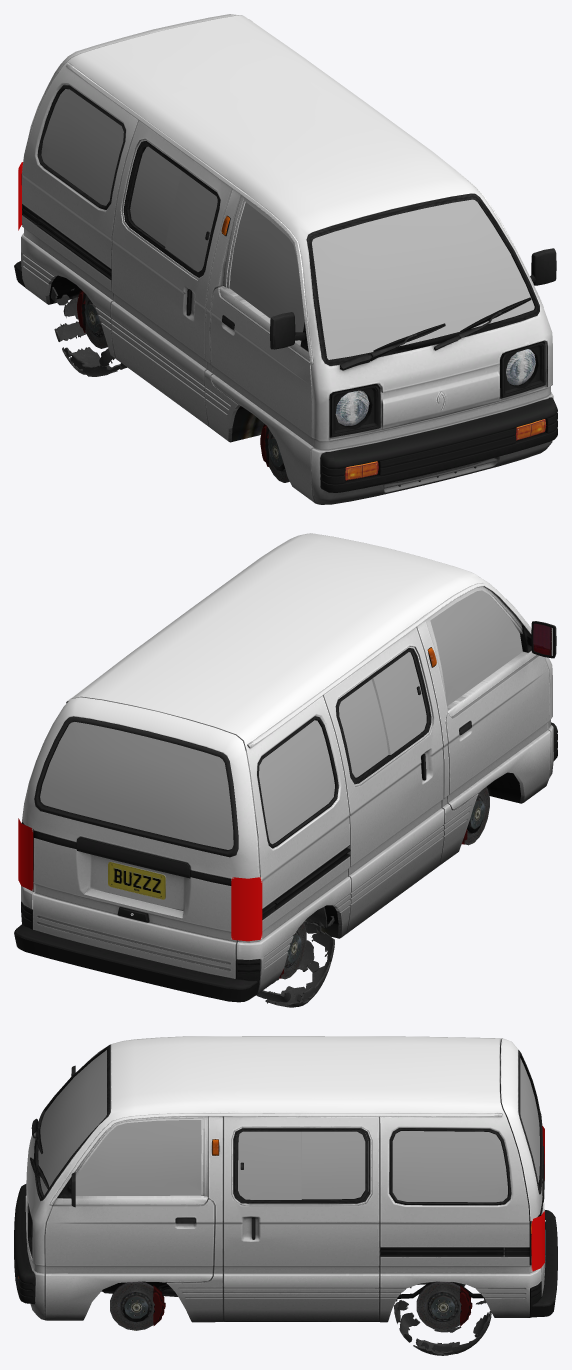
The model's file is 21_MiniVan.fbx.
The picture shows the model from 3 angles, top to bottom: view 1: azimuth 30°, elevation 25°; view 2: azimuth 150°, elevation 25°; view 3: azimuth 270°, elevation 25°; orthographic projection. The views are drawn at different scales.
Visible parts, largest first — view 1: Body_Duco, Body_Glass, Body_Matte, Body_Glossy, Rotor; view 2: Body_Duco, Body_Glass, Body_Matte, BrakeLights, Rotor (×2), NumberPlate, Body_Chrome; view 3: Body_Duco, Body_Glass, Body_Matte, Rotor (×2), BrakeLights.
Part boxes in pixels (box(x1,y1,x2,y2)): Body_Duco: box(21, 14, 553, 504); Body_Glass: box(41, 89, 534, 359); Body_Matte: box(14, 85, 557, 492); Body_Glossy: box(21, 174, 546, 480); Rotor: box(84, 294, 107, 348); Body_Duco: box(21, 533, 553, 993); Body_Glass: box(40, 590, 522, 849); Body_Matte: box(14, 621, 557, 1002); BrakeLights: box(18, 818, 262, 941); Rotor (×2): box(281, 787, 489, 979); NumberPlate: box(108, 861, 166, 899); Body_Chrome: box(130, 623, 552, 915); Body_Duco: box(26, 1036, 545, 1322); Body_Glass: box(38, 1050, 539, 1202); Body_Matte: box(14, 1045, 557, 1322); Rotor (×2): box(110, 1281, 461, 1330); BrakeLights: box(531, 1126, 544, 1271).
Size of what is drawn, in the model's own units: 1.67 by 1.65 by 3.29.
